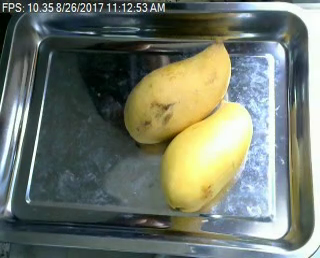Mango: (122, 37, 233, 146), (156, 99, 254, 211)
